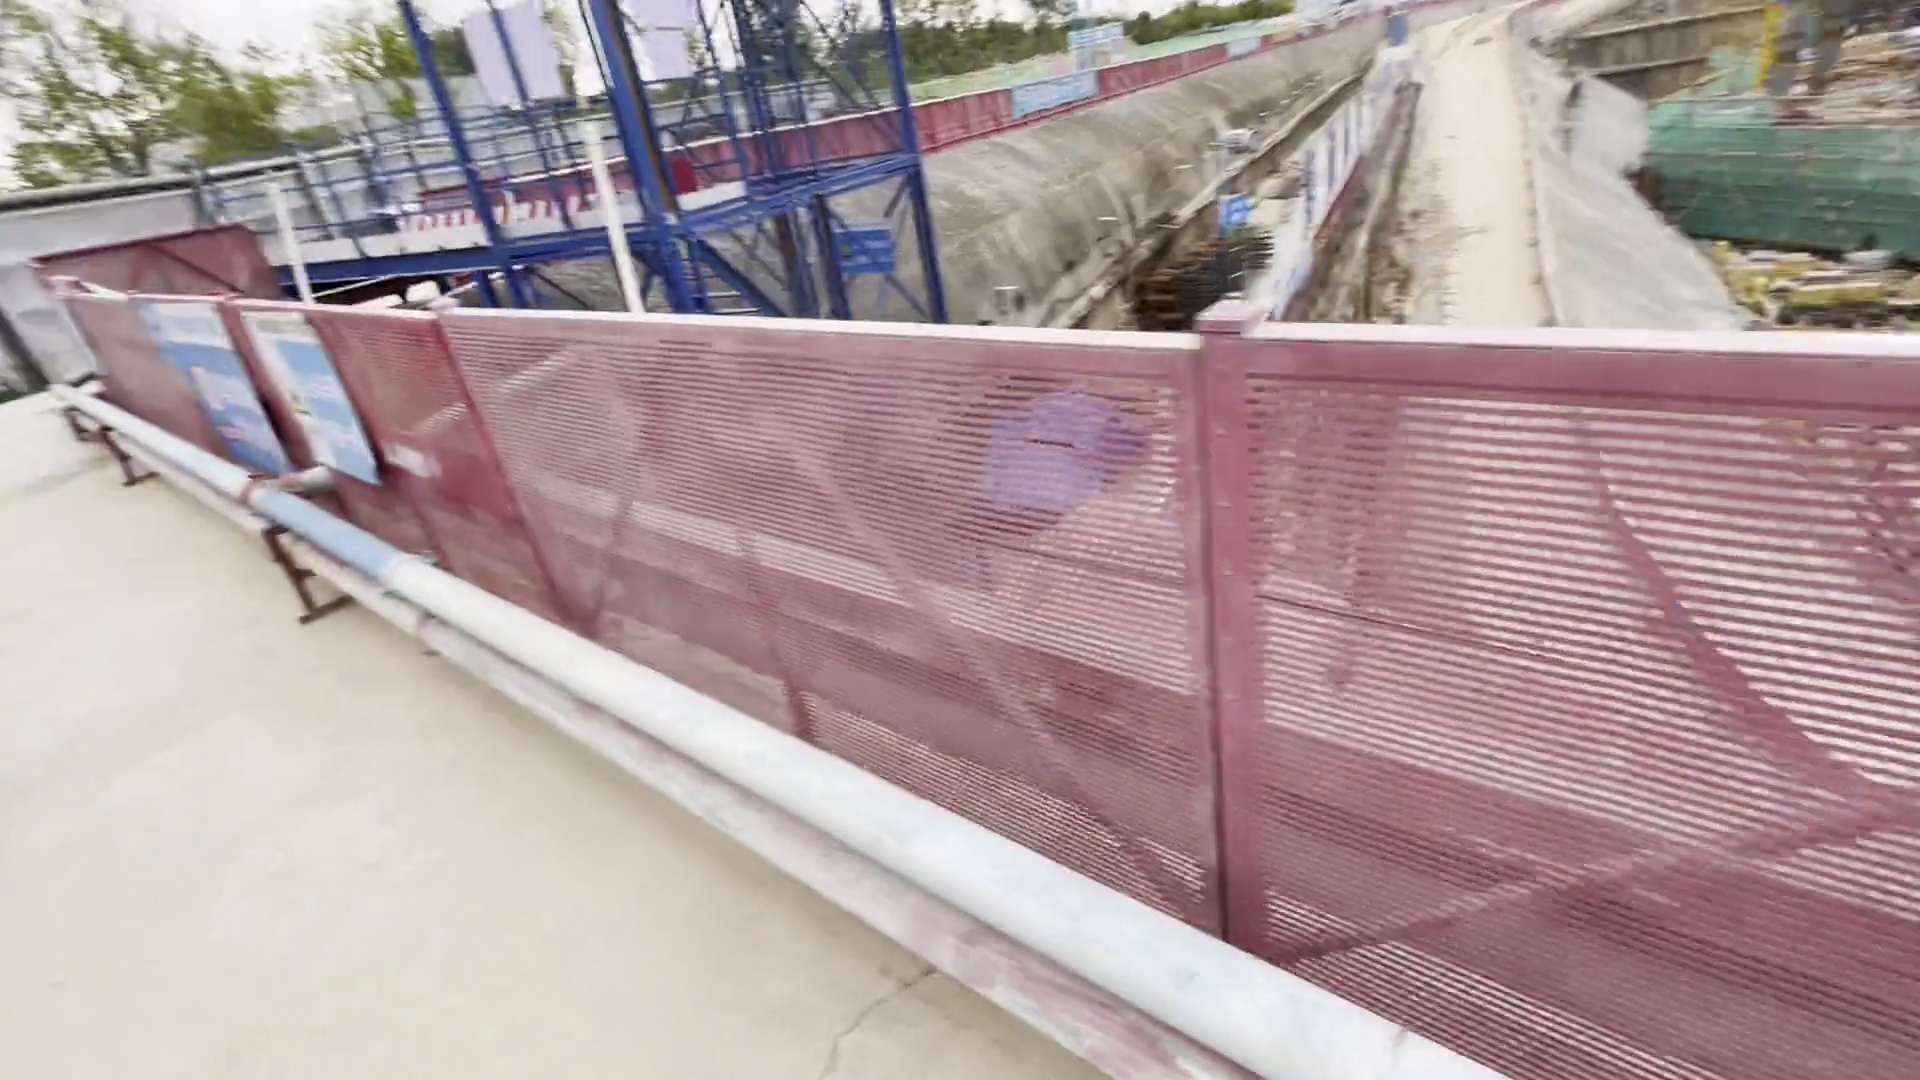fence: (83, 274, 1899, 1064), (803, 25, 1258, 141)
slogan: (138, 287, 386, 509), (994, 74, 1098, 117), (1073, 21, 1131, 47)
